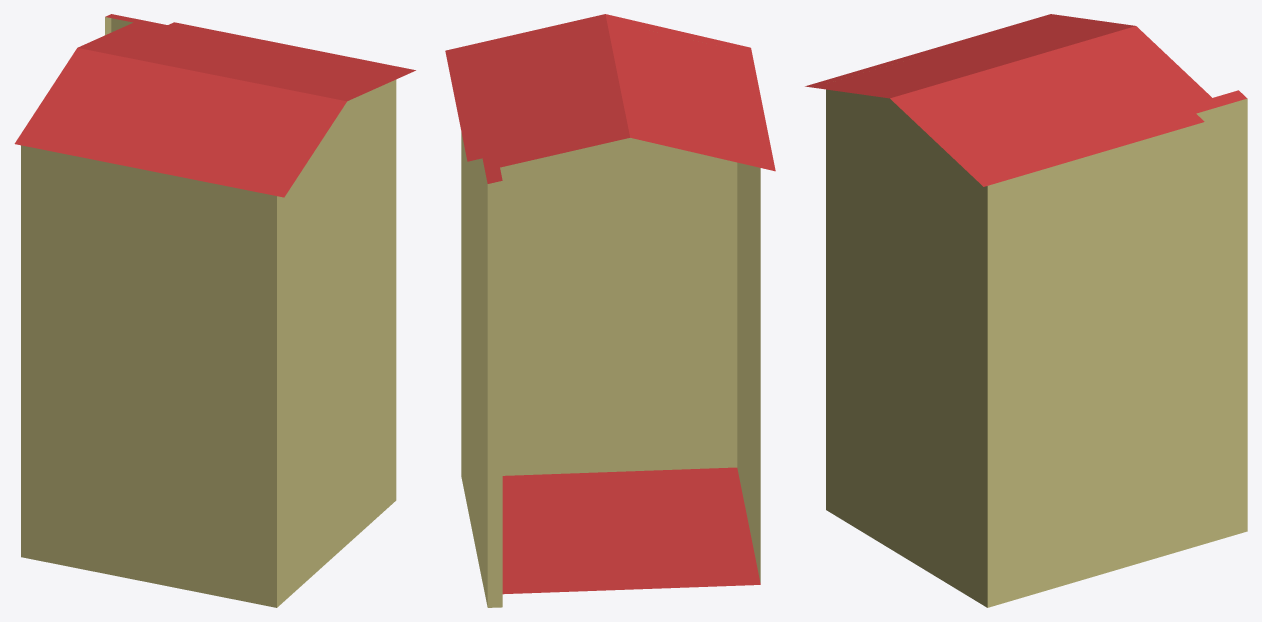
The picture shows the model from 3 angles, left to right: view 1: azimuth 30°, elevation 25°; view 2: azimuth 150°, elevation 25°; view 3: azimuth 270°, elevation 25°; orthographic projection. The views are drawn at different scales.
Size of the model in its own units: 6.97 by 7.21 by 8.28.
